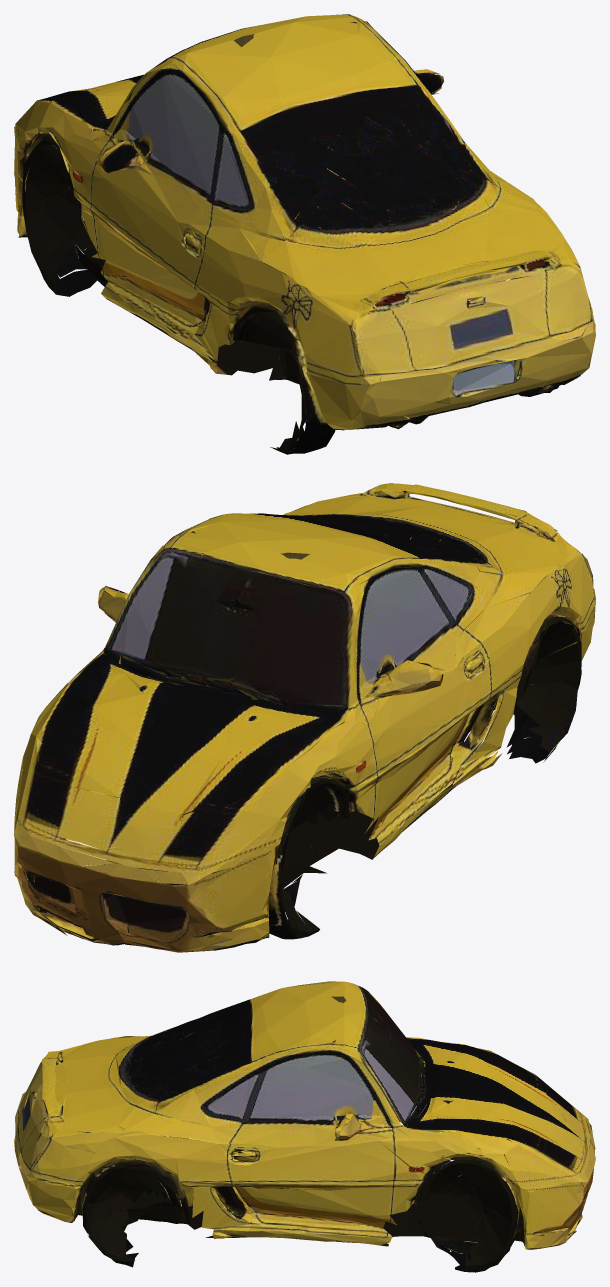
The model's file is sports_body.glb.
The picture shows the model from 3 angles, top to bottom: view 1: azimuth 30°, elevation 25°; view 2: azimuth 150°, elevation 25°; view 3: azimuth 270°, elevation 25°; orthographic projection. The views are drawn at different scales.
Visible parts, largest first — view 1: geometry_0; view 2: geometry_0; view 3: geometry_0.
Boxes of the visible parts, x1,y1,x2,y2 form: geometry_0: (14,14,595,454); geometry_0: (14,483,595,952); geometry_0: (14,981,595,1272).
Bounding box in the file's own units: 0.5073 × 0.4143 × 1.
1 material, 1 textured.
